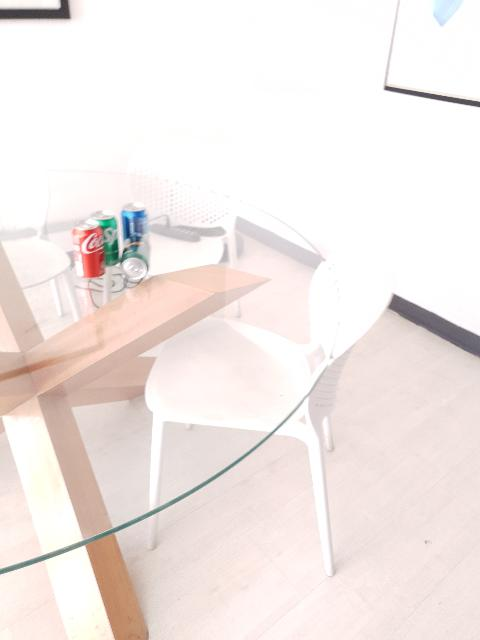coke: (70, 222, 102, 282)
pepsi: (120, 198, 148, 245)
schweppes: (121, 241, 149, 283)
sprite: (91, 206, 121, 264)
